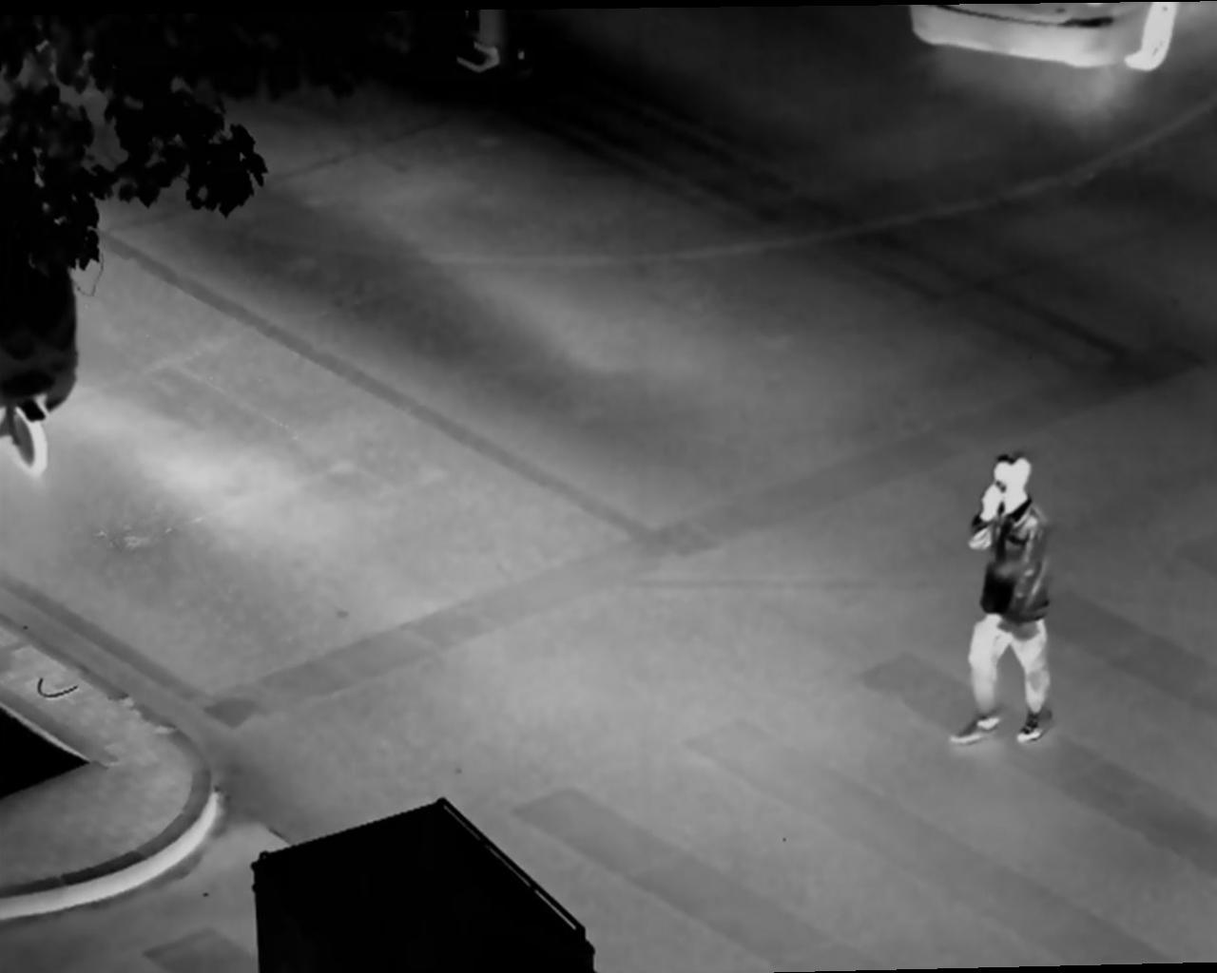person: (945, 449, 1068, 754)
